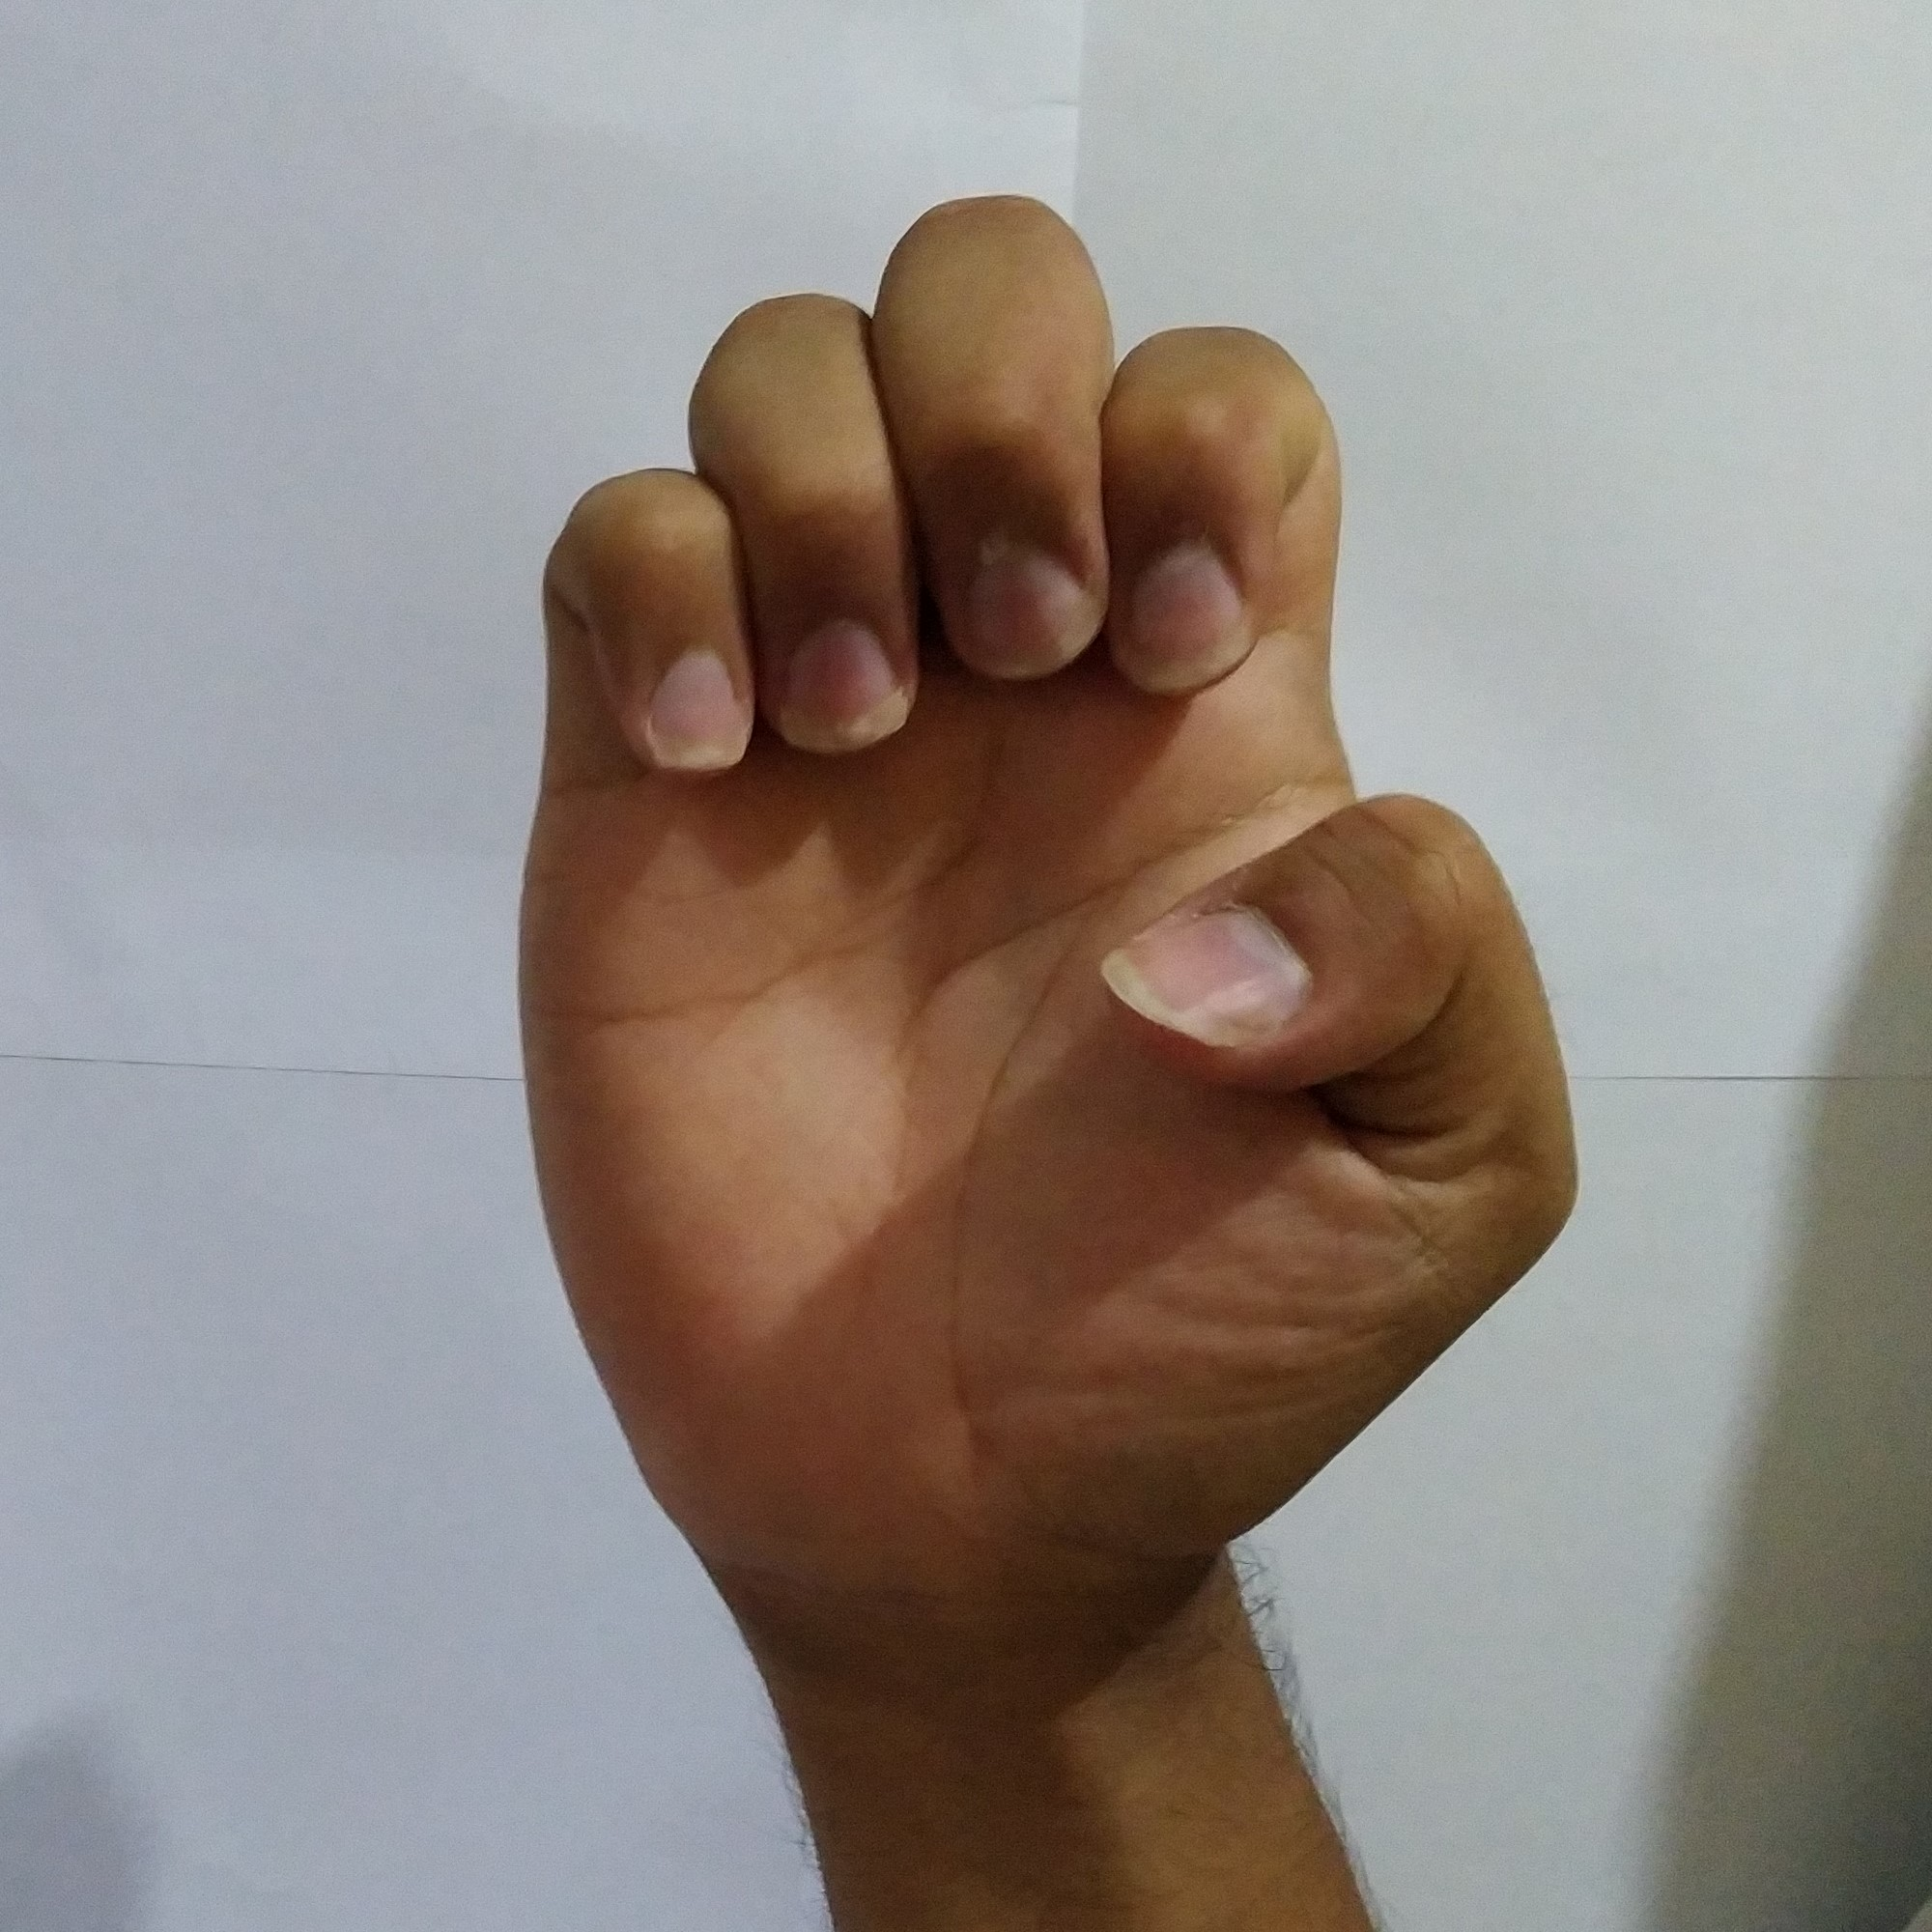E: (490, 177, 1599, 1546)
